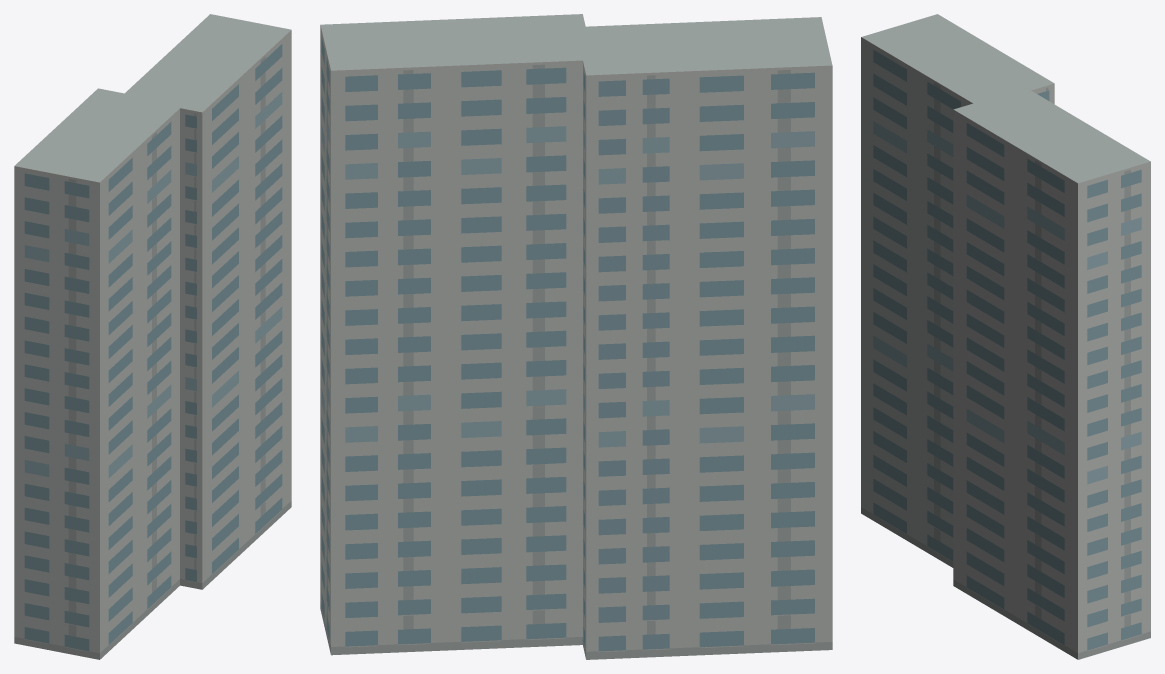
File: residential-16d49045-5cff-4f67-965e-c36baa37a27f.glb
3 views of the same model, side by side, from view 1: azimuth 30°, elevation 25°; view 2: azimuth 150°, elevation 25°; view 3: azimuth 270°, elevation 25° (orthographic). The views are drawn at different scales.
Parts seen in each view (by area): view 1: residential-16d49045-5cff-4f67-965e-c36baa37a27f.tmp; view 2: residential-16d49045-5cff-4f67-965e-c36baa37a27f.tmp; view 3: residential-16d49045-5cff-4f67-965e-c36baa37a27f.tmp.
Boxes of the visible parts, x1,y1,x2,y2 form: residential-16d49045-5cff-4f67-965e-c36baa37a27f.tmp: [14, 14, 291, 659]; residential-16d49045-5cff-4f67-965e-c36baa37a27f.tmp: [320, 14, 832, 659]; residential-16d49045-5cff-4f67-965e-c36baa37a27f.tmp: [861, 14, 1150, 659].
Bounding box in the file's own units: 41.95 × 55 × 30.31.
